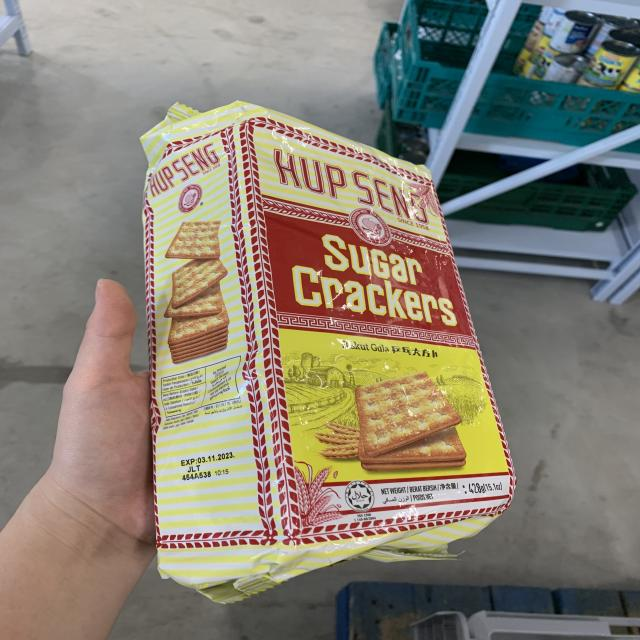object_name: (145, 118, 487, 561)
